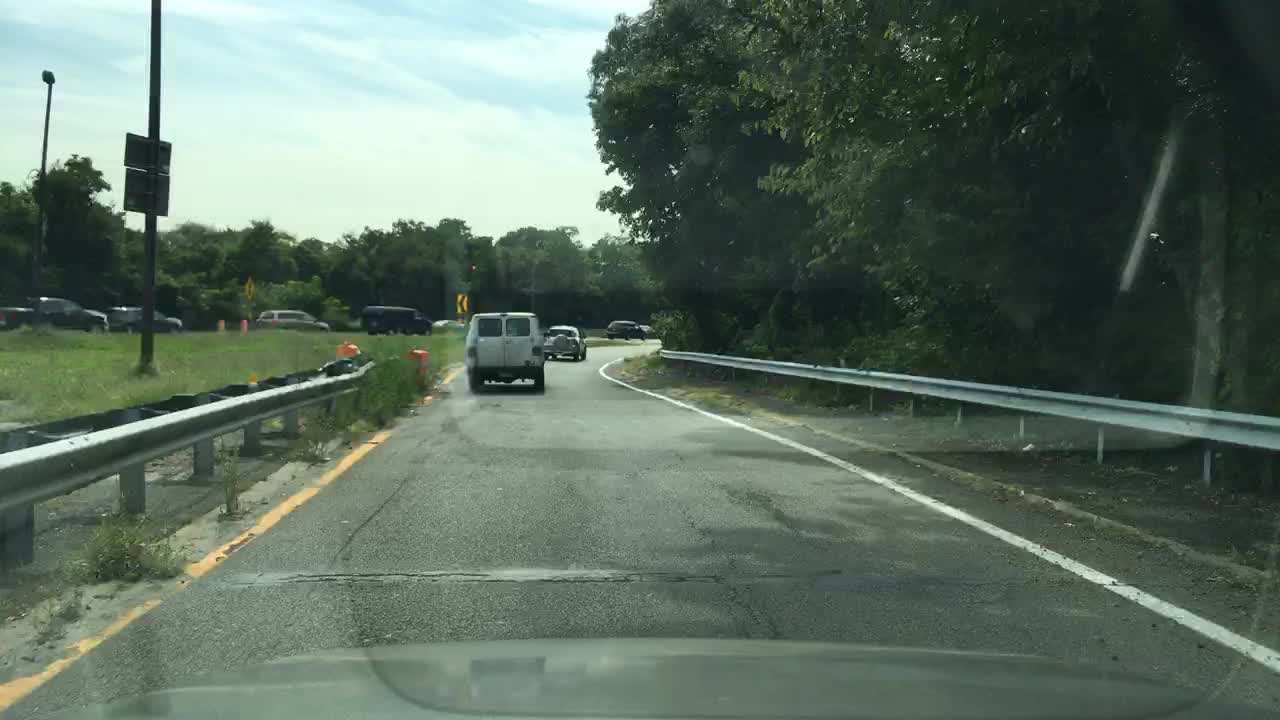car: (464, 311, 546, 390), (1, 296, 107, 334), (359, 306, 432, 338), (104, 306, 181, 334), (541, 324, 588, 360), (256, 310, 331, 331), (604, 318, 647, 341), (432, 318, 469, 334), (637, 324, 660, 338)
traffic sign: (121, 172, 168, 219), (125, 130, 170, 173), (242, 276, 256, 299), (455, 292, 469, 315)
